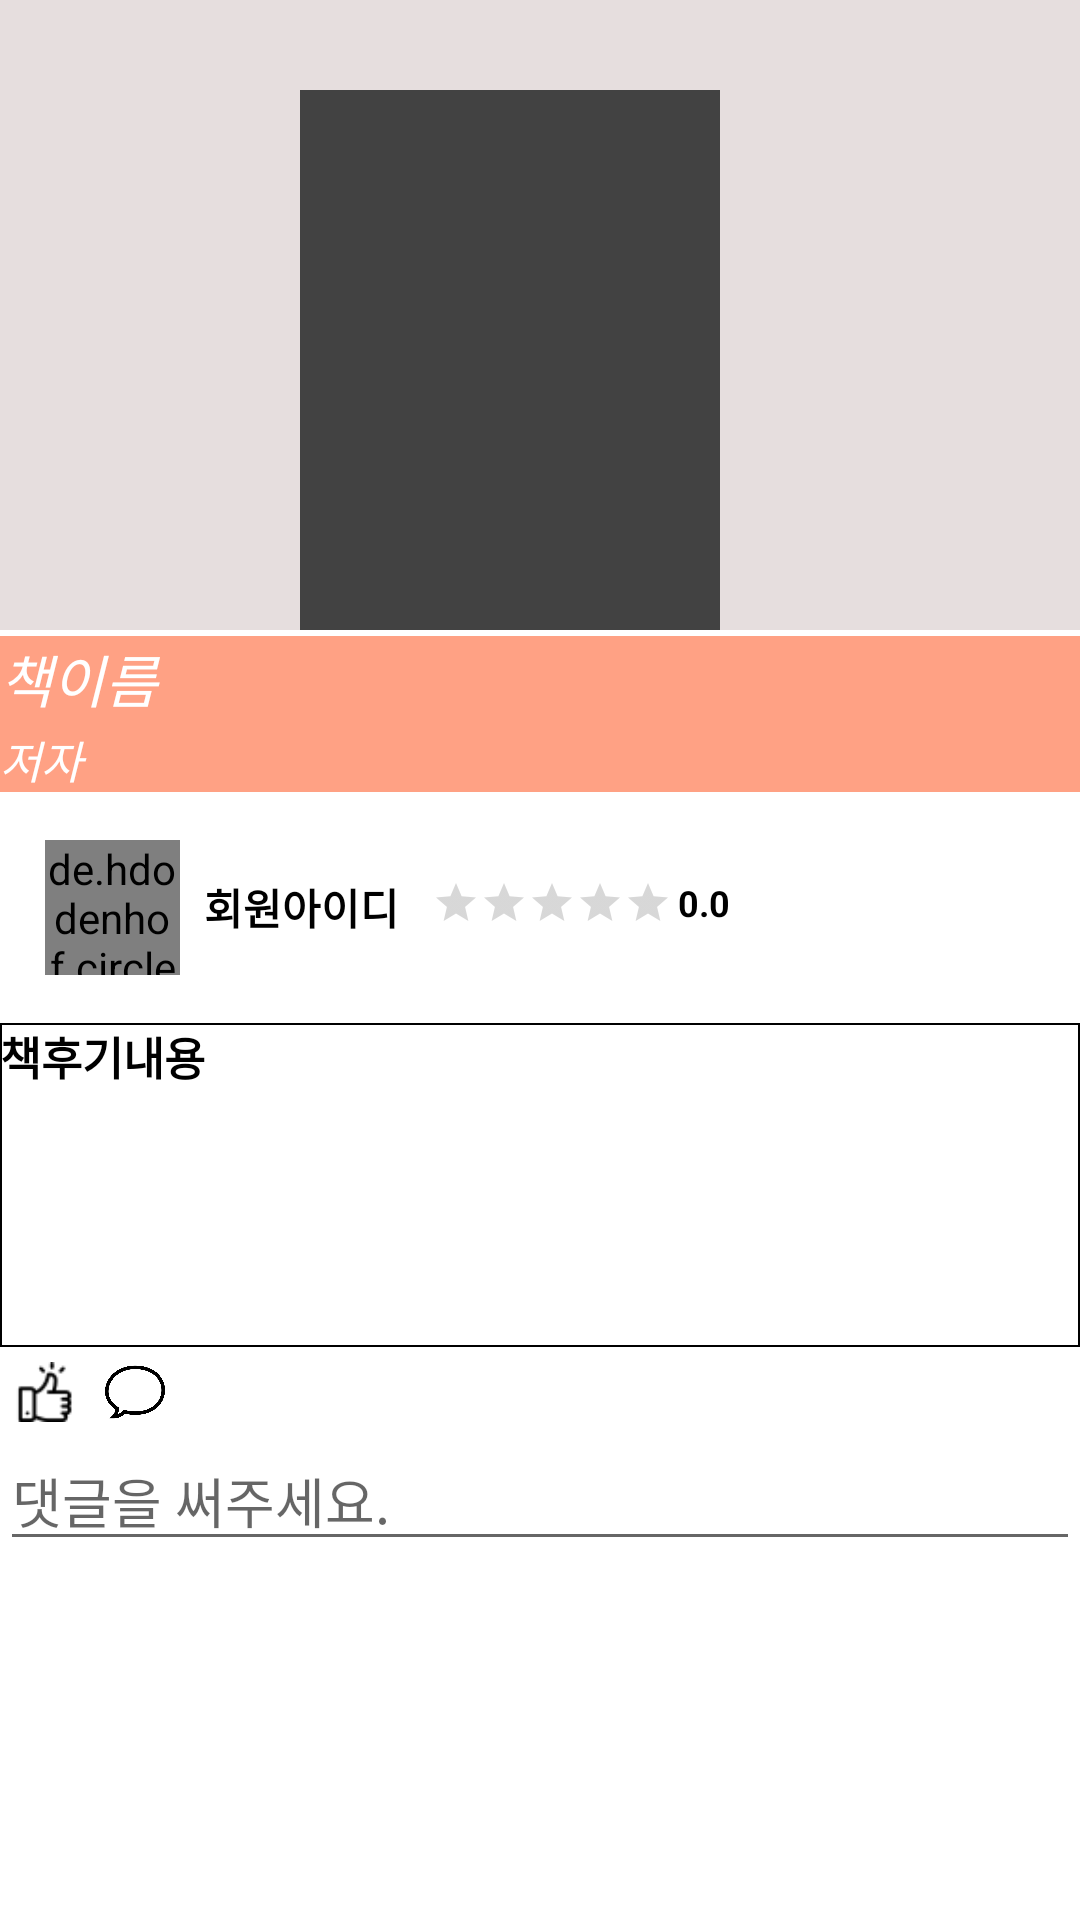

Icon bounding boxes for this 1080 x 1920 phone screenshot, format rect(x1, y1, x2, y2):
ngood: rect(18, 1362, 72, 1422)
reply: rect(105, 1365, 165, 1419)
